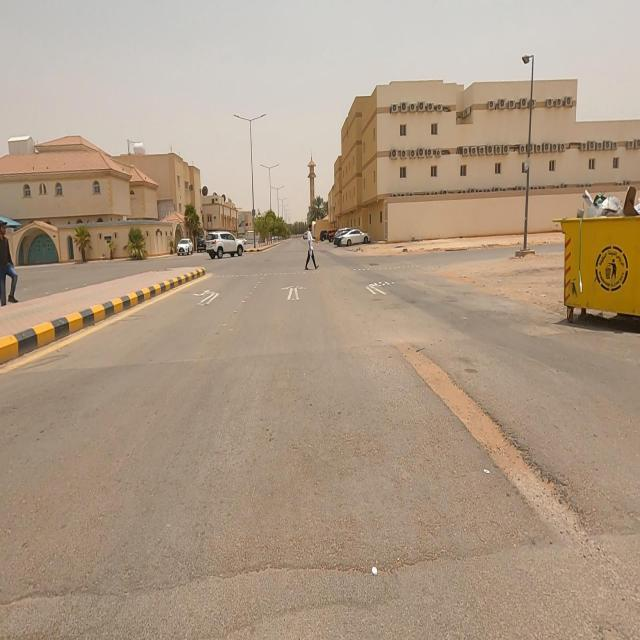debris: (537, 146, 640, 262)
